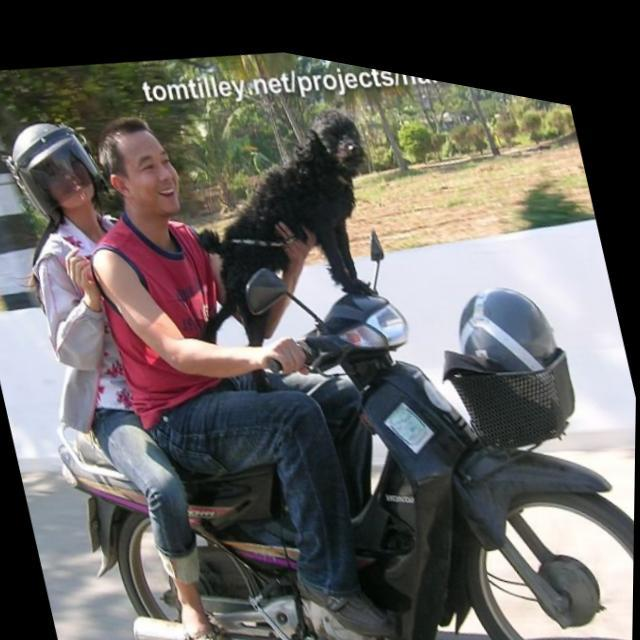Helmet: (0, 113, 100, 228)
Nonhelmet: (96, 109, 192, 235)
